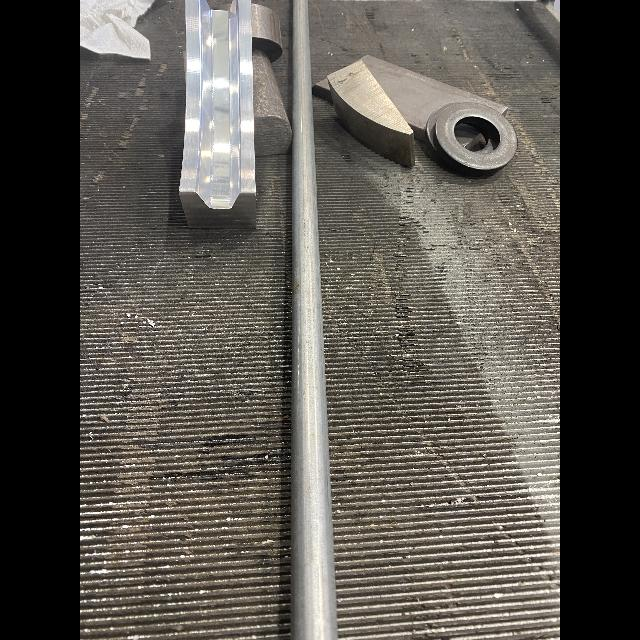Aluminium: (179, 0, 257, 228)
Ferrous Metal: (361, 55, 507, 140), (427, 102, 517, 175), (253, 49, 291, 157), (251, 3, 282, 63), (312, 78, 332, 104)
Galvanized Steel: (291, 0, 337, 640)
Stainless Steel: (327, 58, 415, 167)
